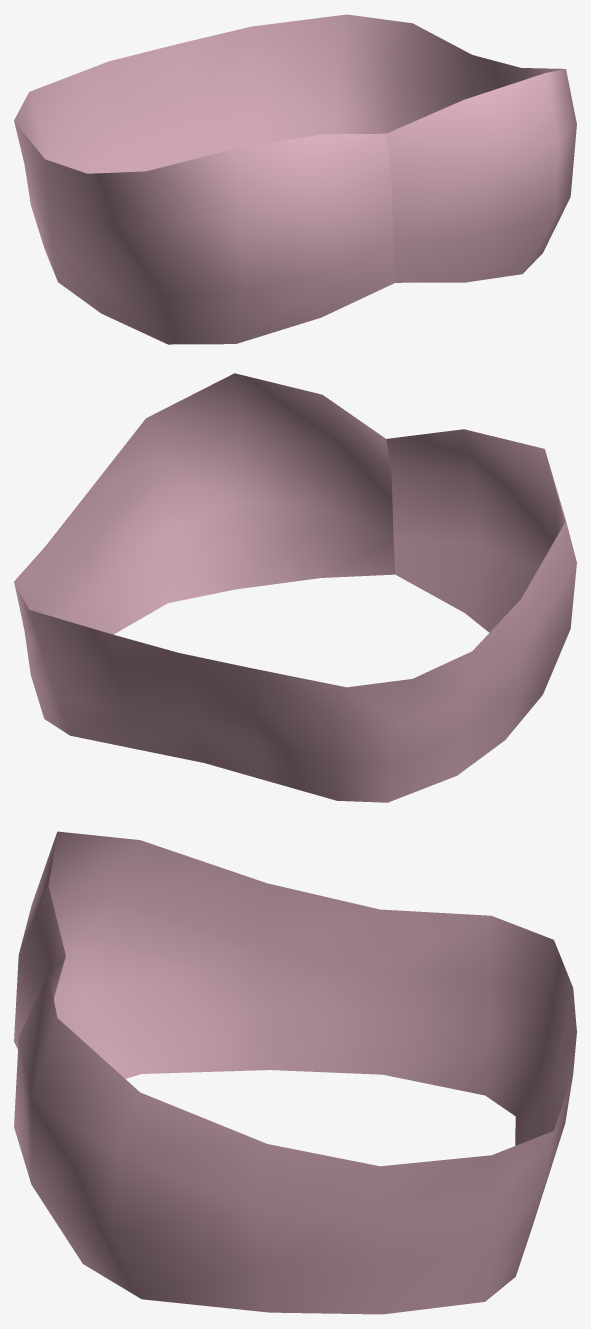
File: Blouse_14.glb
The picture shows the model from 3 angles, top to bottom: view 1: azimuth 30°, elevation 25°; view 2: azimuth 150°, elevation 25°; view 3: azimuth 270°, elevation 25°; orthographic projection. The views are drawn at different scales.
Parts seen in each view (by area): view 1: Blouse_14; view 2: Blouse_14; view 3: Blouse_14.
Boxes of the visible parts, x1,y1,x2,y2 form: Blouse_14: (14,14,576,344); Blouse_14: (14,373,576,802); Blouse_14: (14,831,576,1314).
Bounding box in the file's own units: 0.2602 × 0.1276 × 0.2375.
